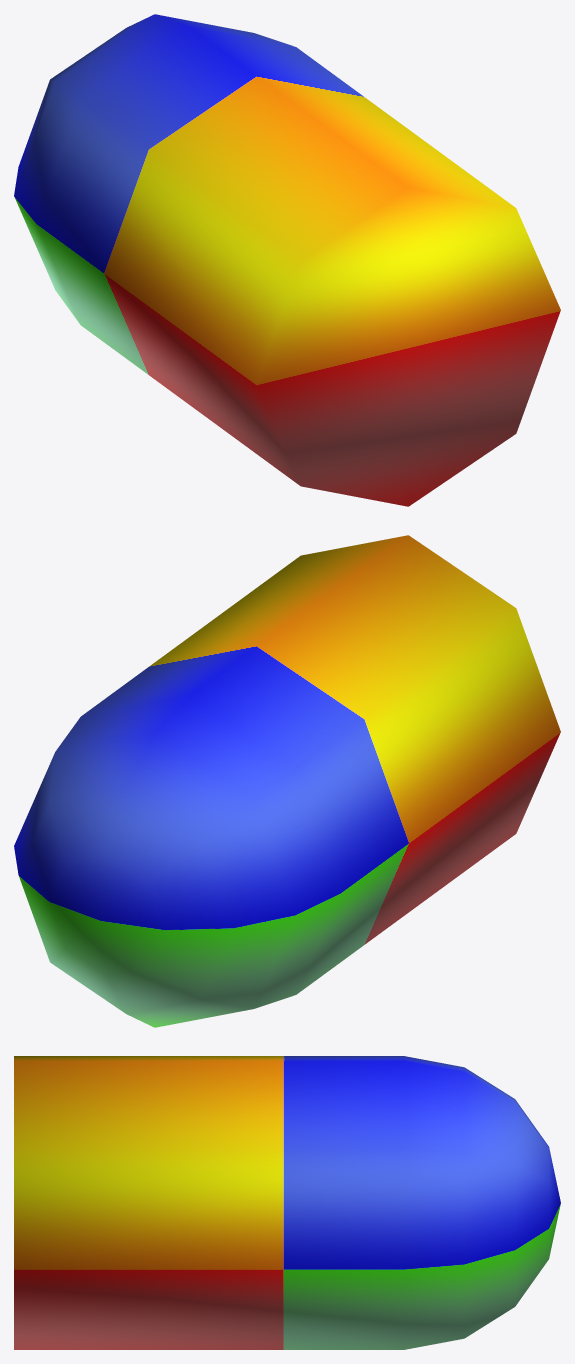
The model's file is bullet.dae.
3 renders of one model, top to bottom at view 1: azimuth 30°, elevation 25°; view 2: azimuth 150°, elevation 25°; view 3: azimuth 270°, elevation 25°, orthographic. The views are drawn at different scales.
Parts seen in each view (by area): view 1: Sphere; view 2: Sphere; view 3: Sphere.
Boxes of the visible parts, box(x1,y1,x2,y2) form: Sphere: box(14, 14, 560, 506); Sphere: box(14, 535, 560, 1027); Sphere: box(14, 1056, 560, 1349).
Size of the model in its own units: 0.12 by 0.21 by 0.12.
Materials: 1 (1 with a texture image).
